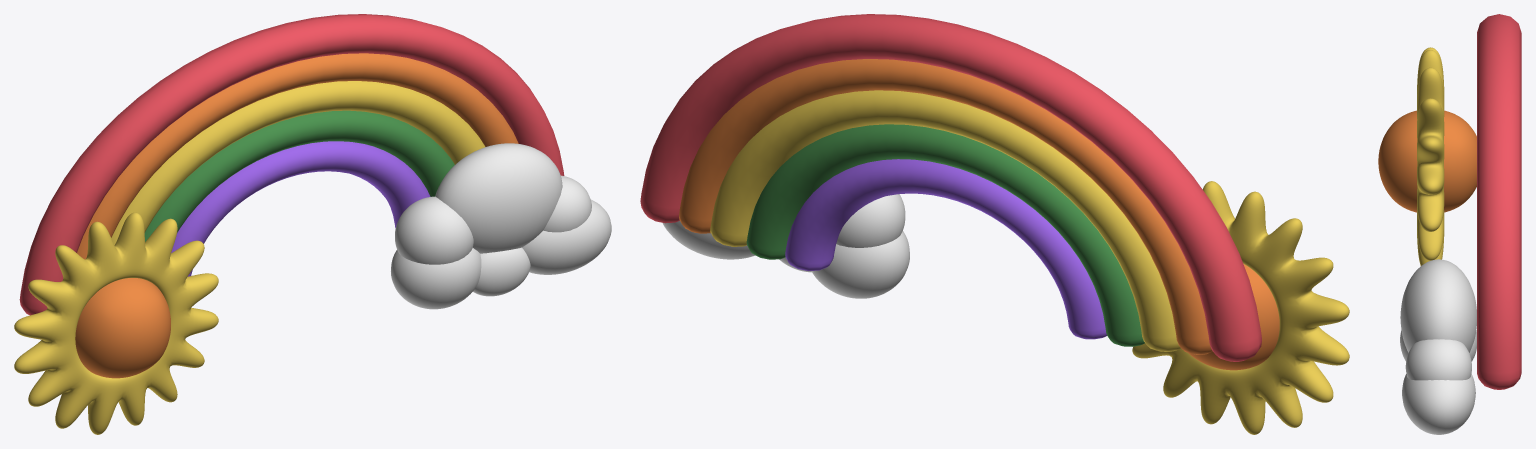
The model's file is Rainbow.fbx.
3 views of the same model, side by side, from view 1: azimuth 30°, elevation 25°; view 2: azimuth 150°, elevation 25°; view 3: azimuth 270°, elevation 25° (orthographic). The views are drawn at different scales.
Parts seen in each view (by area): view 1: Circle_004, Sphere_012, Cube_039, Circle_003, Circle_002, Circle_001, Circle, Cube_038; view 2: Circle_004, Circle_003, Circle_002, Circle_001, Cube_039, Circle, Sphere_012, Cube_038; view 3: Circle_004, Sphere_012, Cube_038, Cube_039.
Boxes of the visible parts, x1,y1,x2,y2 form: Circle_004: (19,14,564,315); Sphere_012: (391,143,611,309); Cube_039: (14,212,218,434); Circle_003: (77,53,518,259); Circle_002: (111,81,485,245); Circle_001: (144,110,454,241); Circle: (171,141,430,276); Cube_038: (75,278,170,378); Circle_004: (640,14,1261,361); Circle_003: (679,59,1212,354); Circle_002: (710,90,1180,351); Circle_001: (746,124,1144,346); Cube_039: (1132,181,1349,434); Circle: (785,159,1107,339); Sphere_012: (662,194,909,298); Cube_038: (1188,264,1279,370); Circle_004: (1477,14,1521,389); Sphere_012: (1400,259,1476,434); Cube_038: (1378,110,1476,212); Cube_039: (1417,47,1444,265).
Size of the model in its own units: 453 by 237 by 97.53.
